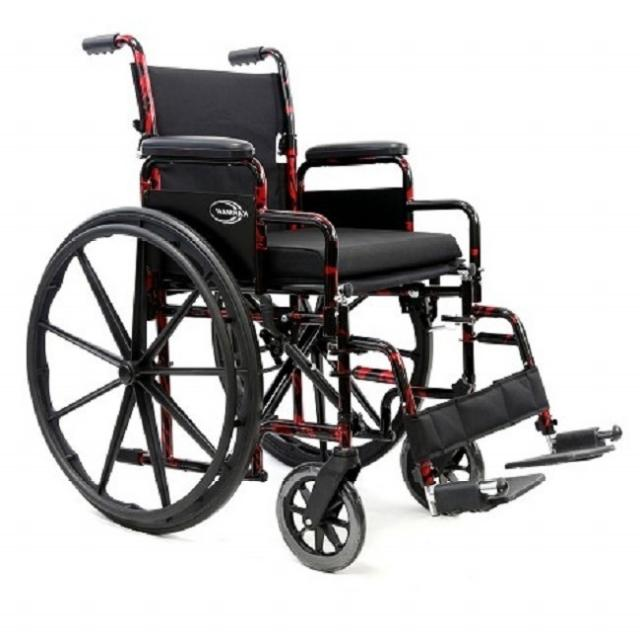wheelchair: (19, 20, 640, 582)
